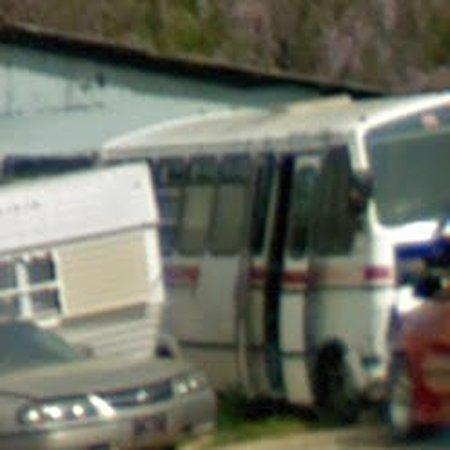buses: (102, 94, 450, 423)
